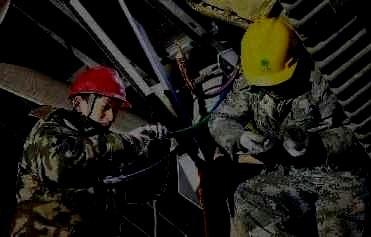helmet: (239, 16, 303, 86), (66, 64, 132, 130)
